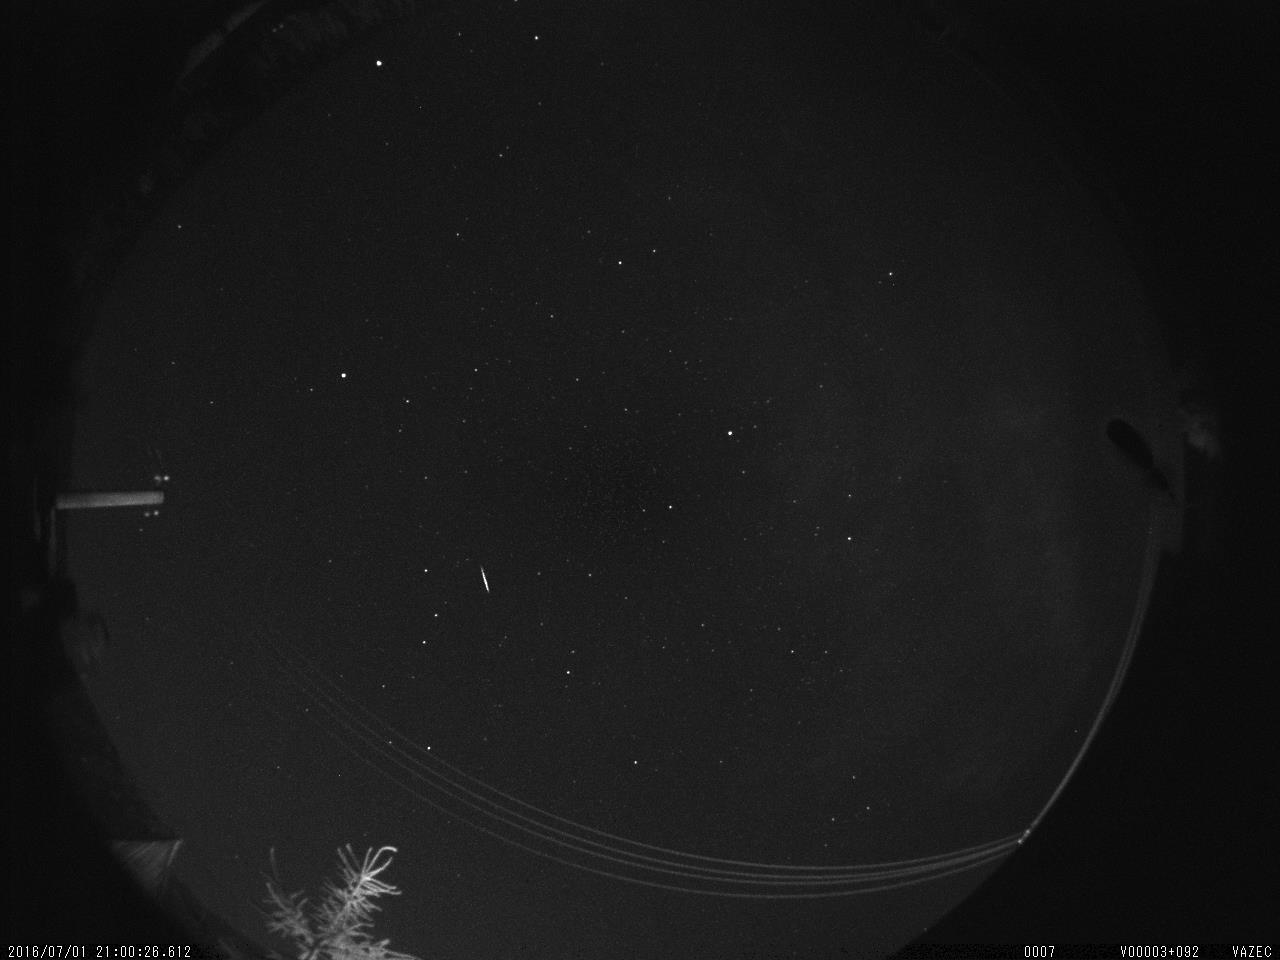meteor: (471, 559, 500, 602)
